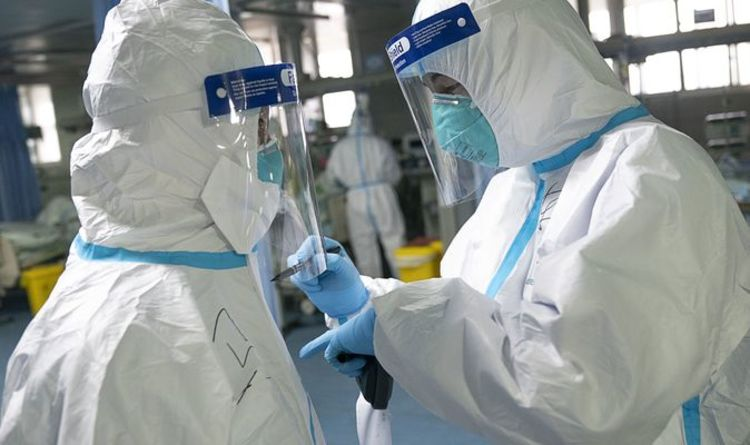Coverall: (392, 1, 750, 445), (43, 1, 286, 445)
Gloves: (287, 235, 367, 322), (291, 309, 385, 379)
with_mask: (420, 73, 507, 171)
